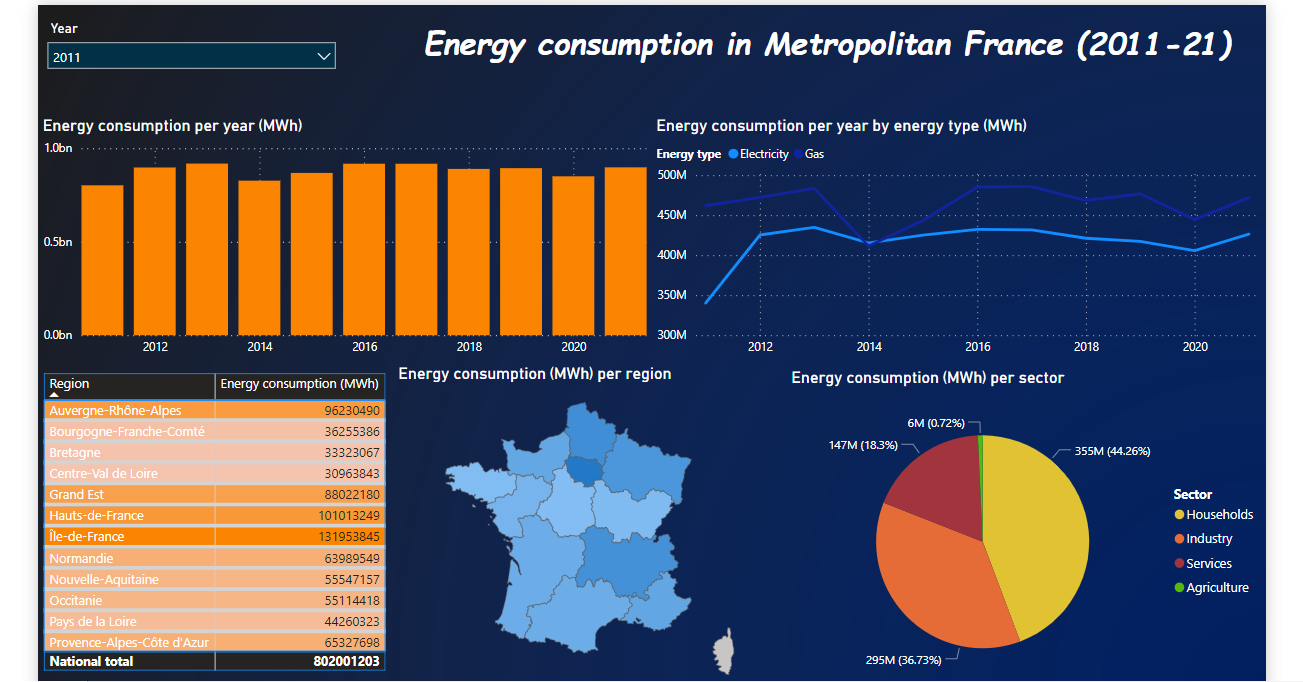

This screenshot's page, from the dashboard's own definition file:
{"tool":"powerbi","page":{"name":"Energy consumption","canvas":[1280,720],"ordinal":0},"visuals":[{"type":"shapeMap","title":"Energy consumption (MWh) per region","fields":{"Category":["Working Sheet.Region"],"Value":["Sum(Working Sheet.Energy consumption (MWh))"]},"box":[371,374.2,408.1,345.2],"z":0},{"type":"tableEx","fields":{"Values":["Working Sheet.Region","Sum(Working Sheet.Energy consumption (MWh))"]},"box":[0,377.4,371,341.9],"z":1000},{"type":"columnChart","title":"Energy consumption per year (MWh)","fields":{"Category":["Working Sheet.Year"],"Y":["Sum(Working Sheet.Energy consumption (MWh))"]},"box":[0,115.4,639.1,258.2],"z":2000},{"type":"lineChart","title":"Energy consumption per year by energy type (MWh)","fields":{"Category":["Working Sheet.Year"],"Y":["Sum(Working Sheet.Energy consumption (MWh))"],"Series":["Working Sheet.Energy type"]},"box":[638.7,116.1,640.3,258.1],"z":3000},{"type":"pieChart","title":"Energy consumption (MWh) per sector","fields":{"Category":["Working Sheet.Sector"],"Y":["Sum(Working Sheet.Energy consumption (MWh))"]},"box":[779.1,377.5,500.5,342.5],"z":4000},{"type":"textbox","box":[390.5,10.9,862.1,104.6],"z":5000},{"type":"slicer","fields":{"Values":["Working Sheet.Year"]},"box":[0,10.9,320.2,87.5],"z":6000}]}

Visuals, with their boxes on the page's 1280x720 design canvas (x1, y1, x2, y2). These are canvas units, not pixel positions in the 1303x682 screenshot, which may show the page scaled, cropped or inside an application window:
"Energy consumption (MWh) per region" shapeMap: 371,374,779,719
tableEx - Working Sheet.Region x Sum(Working Sheet.Energy consumption (MWh)): 0,377,371,719
"Energy consumption per year (MWh)" columnChart: 0,115,639,374
"Energy consumption per year by energy type (MWh)" lineChart: 639,116,1279,374
"Energy consumption (MWh) per sector" pieChart: 779,378,1280,720
textbox: 390,11,1253,116
slicer - Working Sheet.Year: 0,11,320,98
